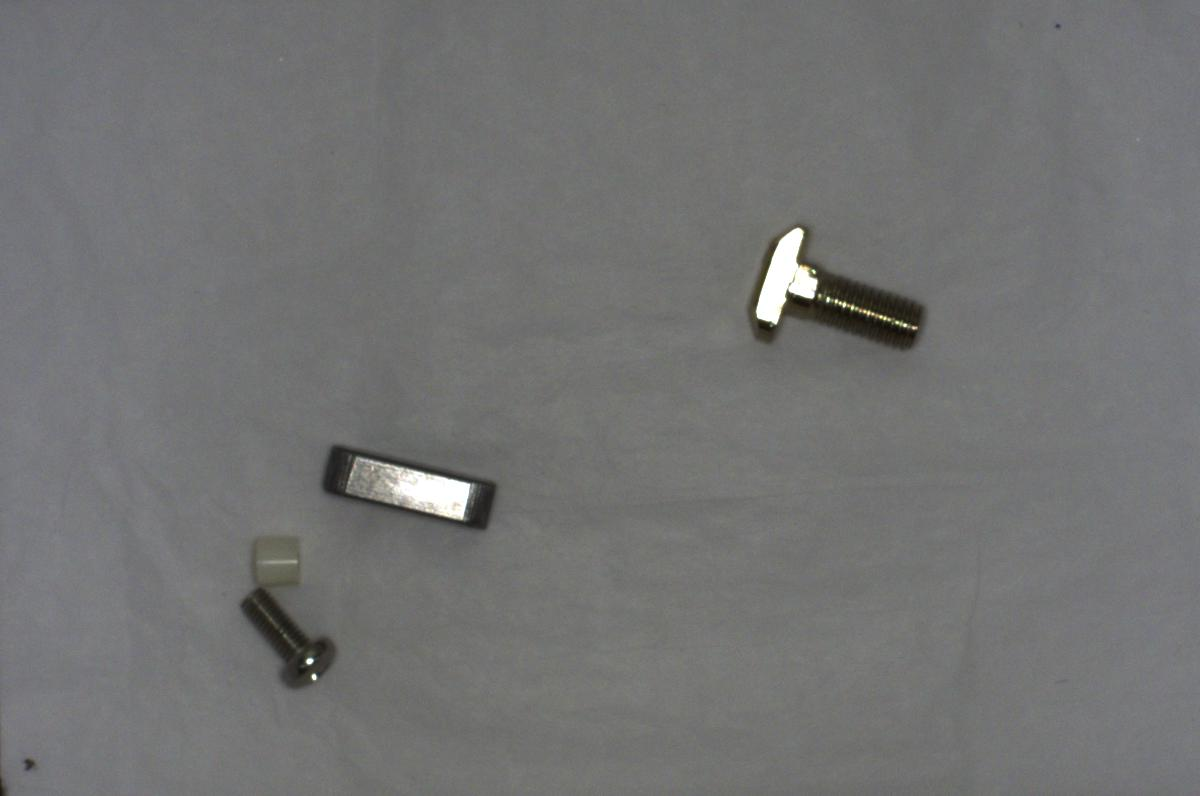Keybar: (315, 439, 501, 533)
Plastic cushion pillar: (238, 530, 318, 596)
Round head screw: (237, 582, 335, 694)
T-shaped screw: (737, 216, 939, 358)
